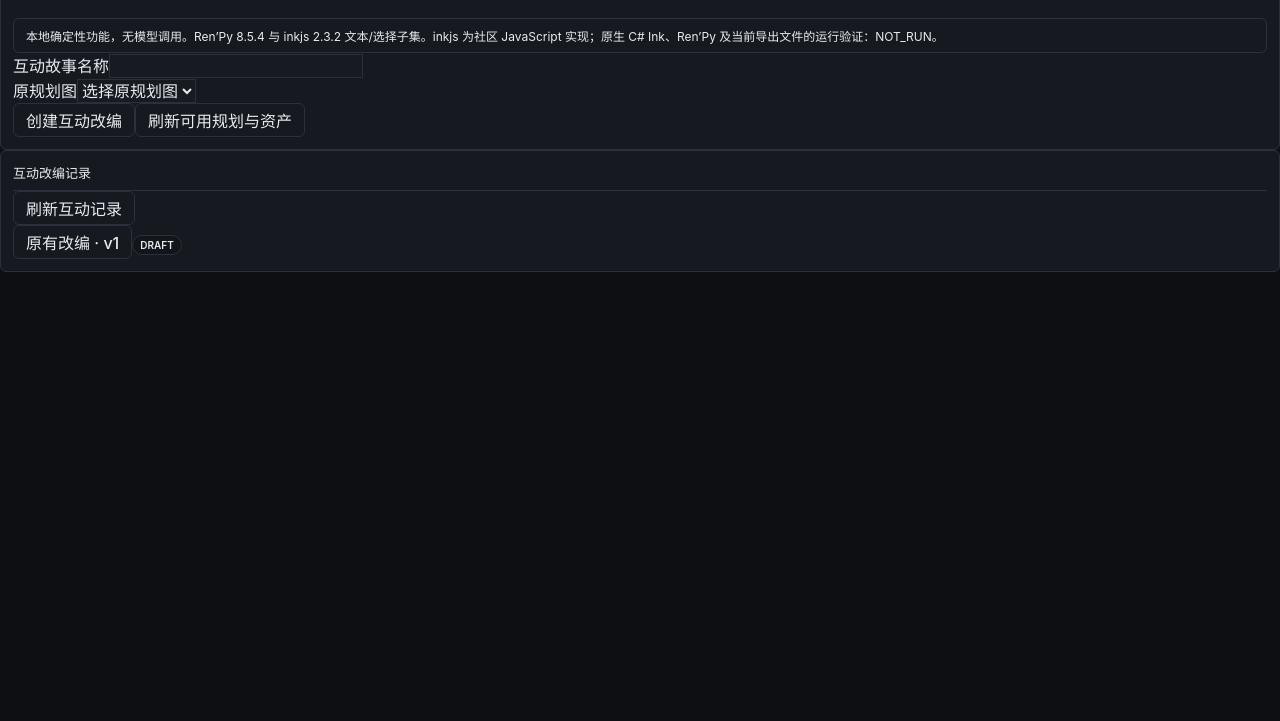
Scenario: keeps at least one node and cancels preview without changing the draft
The width and height of the screenshot is (1280, 721).
Click the button "原有改编 · v1" at (73, 242), box top-left (13, 225), bottom-right (132, 259)
(page scrolled)
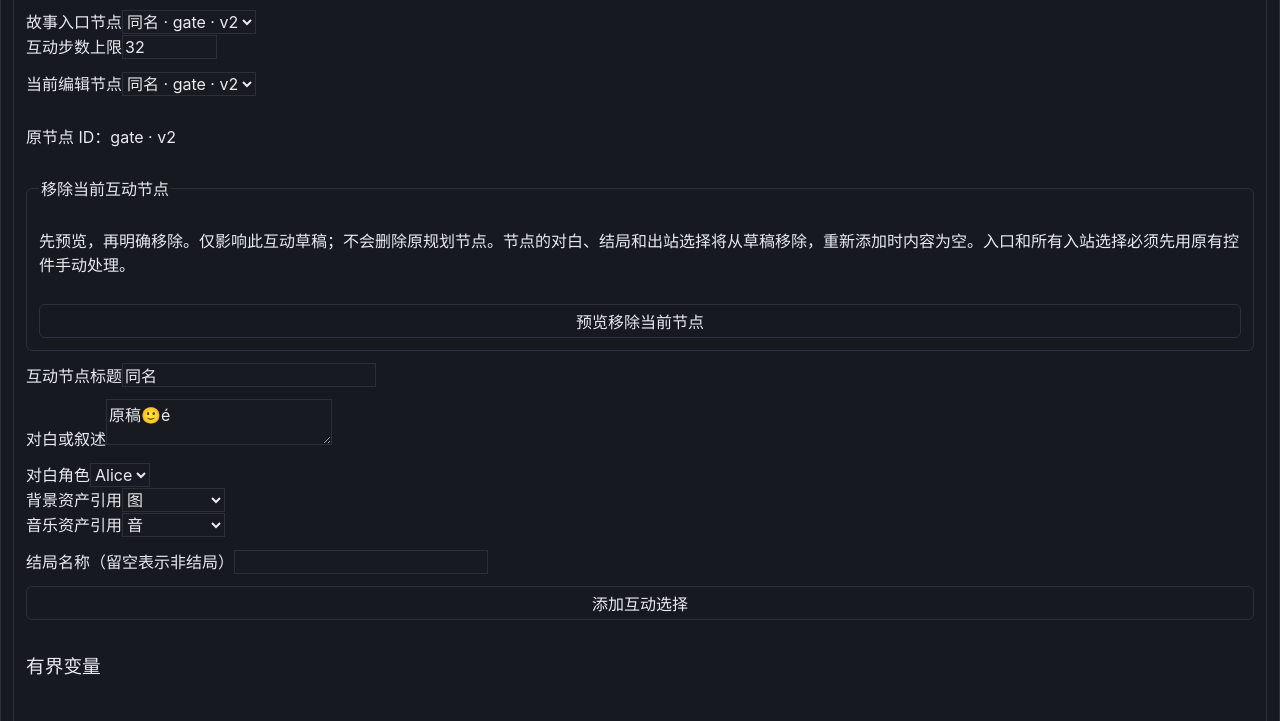
Click the button "预览移除当前节点" at (640, 321), box top-left (39, 304), bottom-right (1241, 338)
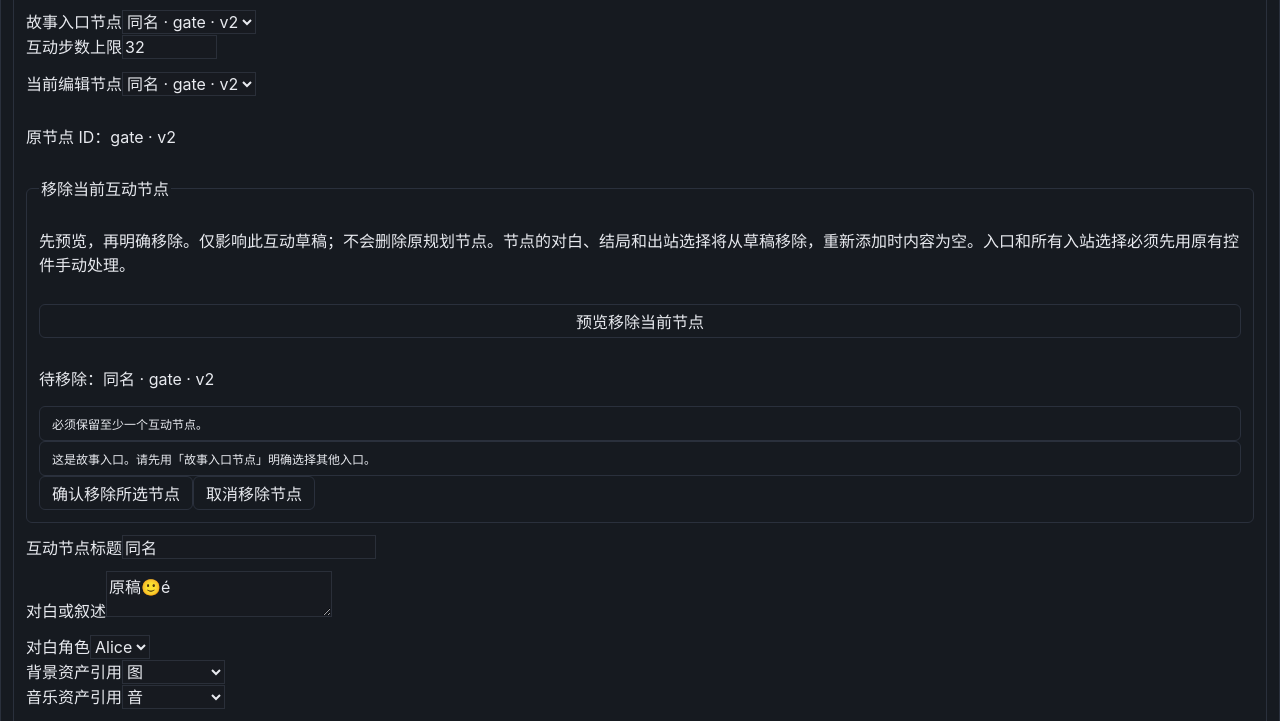
Result: the button "确认移除所选节点" is disabled at top-left (39, 476), bottom-right (193, 510)
Result: the text "必须保留至少一个互动节点。" is shown at top-left (39, 406), bottom-right (1241, 441)
Click the button "取消移除节点" at (254, 493), box top-left (193, 476), bottom-right (315, 510)
(page scrolled)
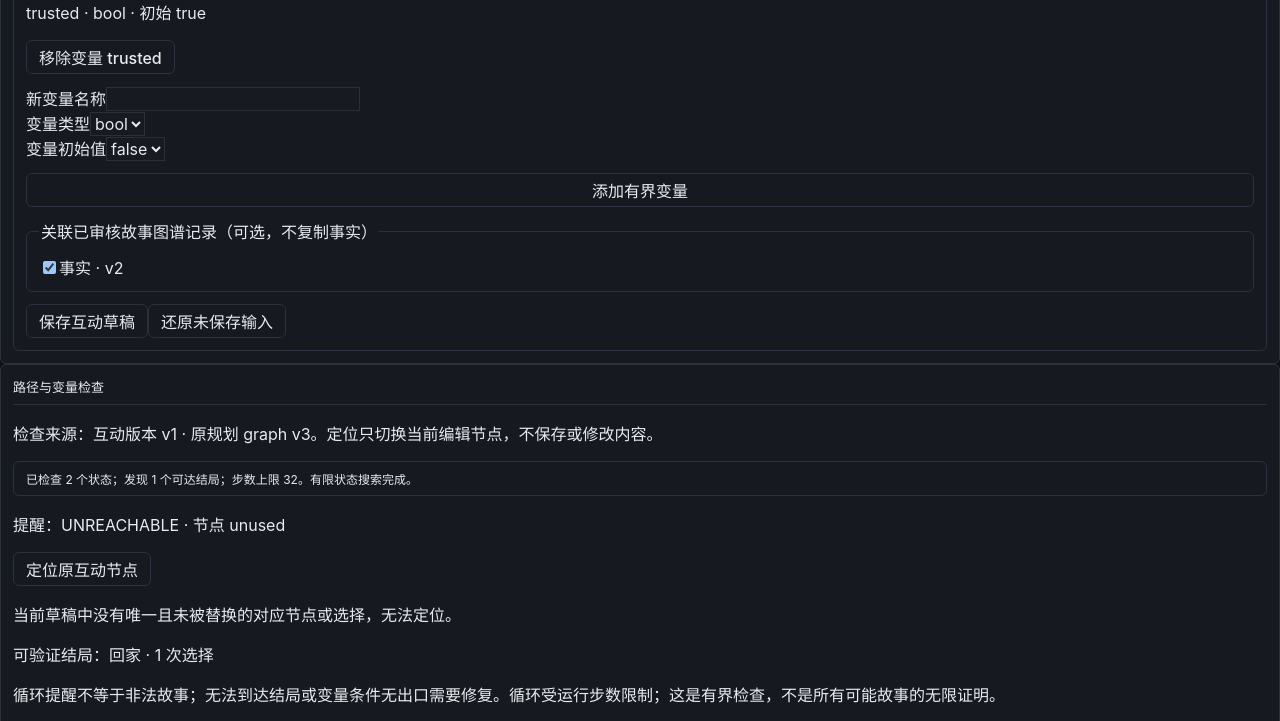
Result: the button "保存互动草稿" is disabled at top-left (26, 304), bottom-right (148, 338)
Result: the button "确认移除所选节点" is gone
